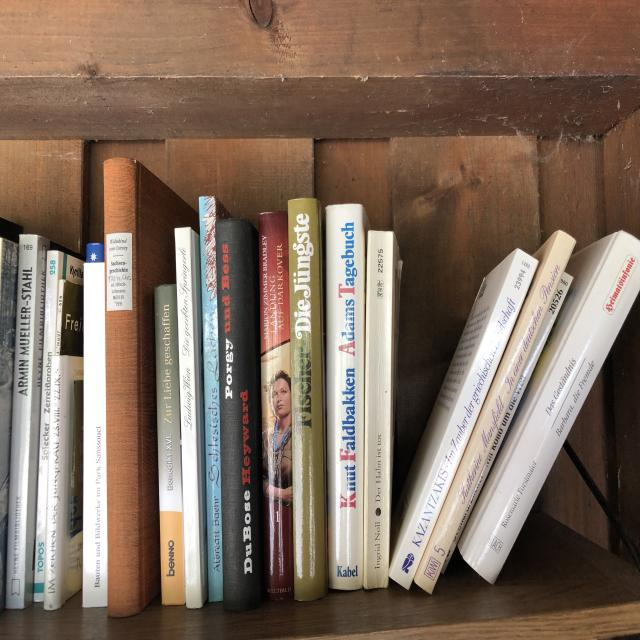book_spine: (463, 233, 640, 583), (415, 229, 577, 594), (388, 248, 539, 592), (217, 225, 261, 606), (105, 159, 140, 616), (325, 205, 364, 588), (259, 214, 296, 595), (288, 201, 323, 590), (6, 235, 40, 607), (197, 198, 224, 601), (173, 228, 201, 608), (33, 249, 62, 604), (365, 230, 392, 589), (155, 284, 185, 604), (82, 243, 106, 608)
